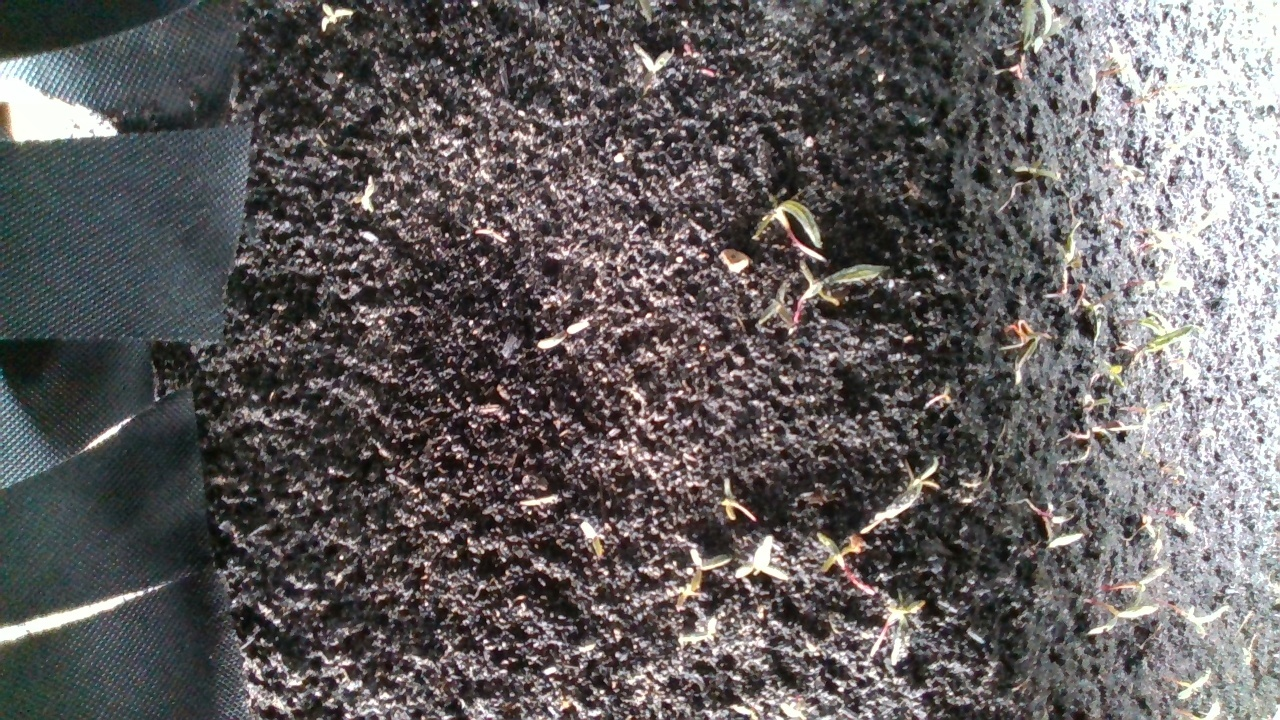weed: (708, 480, 758, 527), (308, 1, 364, 42), (546, 317, 591, 356), (354, 182, 388, 228), (513, 490, 567, 515)
